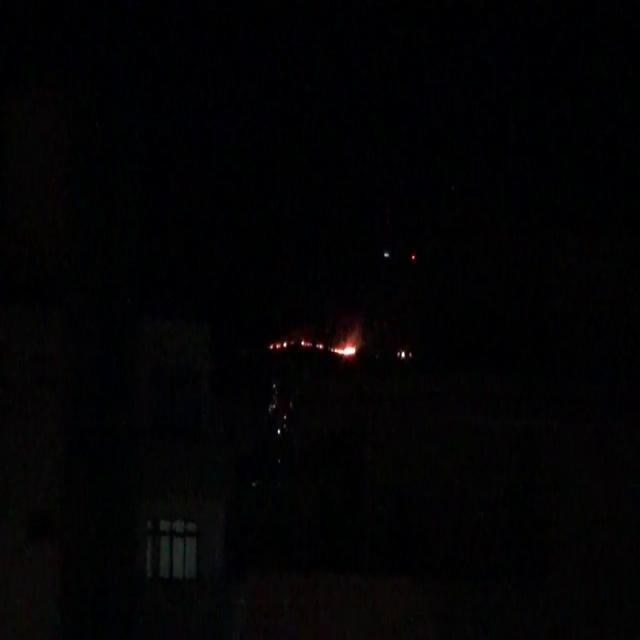Fire: (332, 343, 356, 357), (269, 338, 287, 349), (301, 340, 311, 348), (314, 342, 322, 350)
